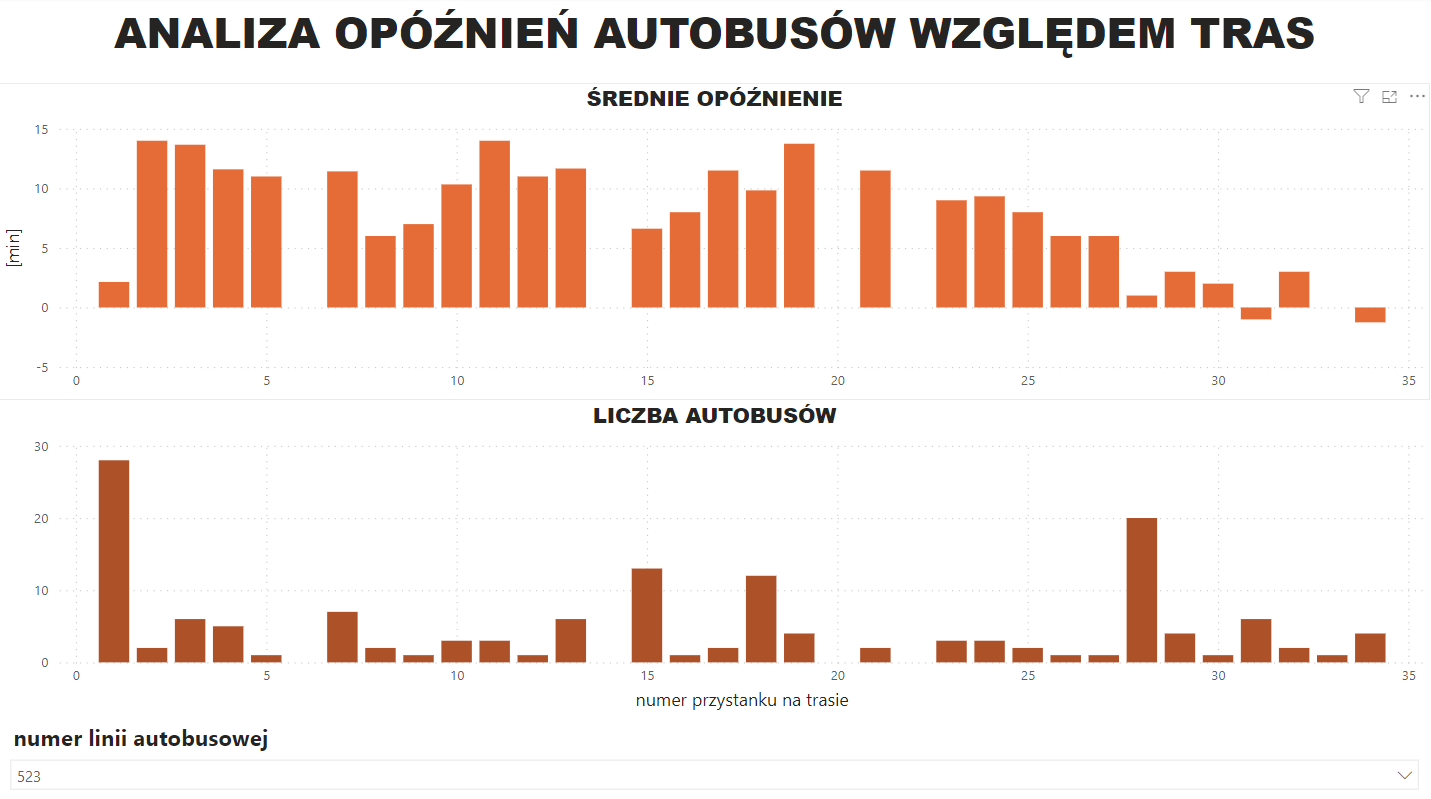

This screenshot's page, from the dashboard's own definition file:
{"tool":"powerbi","page":{"name":"OPÓŹNIENIA NA TRASIE","canvas":[1280,720],"ordinal":1},"visuals":[{"type":"columnChart","fields":{"Category":["DimScheduledArr.StopOnRoute"],"Y":["Avg(FactDelays.delay)"]},"box":[0,0,1280,303.5],"z":0},{"type":"slicer","fields":{"Values":["DimScheduledArr.kod_trasy"]},"box":[0,649.7,1280,70],"z":1000},{"type":"columnChart","fields":{"Category":["DimScheduledArr.StopOnRoute"],"Y":["CountNonNull(FactDelays.bus_id)"]},"box":[0,303.5,1280,346.3],"z":1001}]}

Visuals, with their boxes in screenshot pixels (x1, y1, x2, y2), scaled from the page's 1280x720 canvas onto the 1431x799 screenshot:
columnChart - DimScheduledArr.StopOnRoute x Avg(FactDelays.delay): region(0, 0, 1430, 337)
slicer - DimScheduledArr.kod_trasy: region(0, 721, 1430, 798)
columnChart - DimScheduledArr.StopOnRoute x CountNonNull(FactDelays.bus_id): region(0, 337, 1430, 721)
